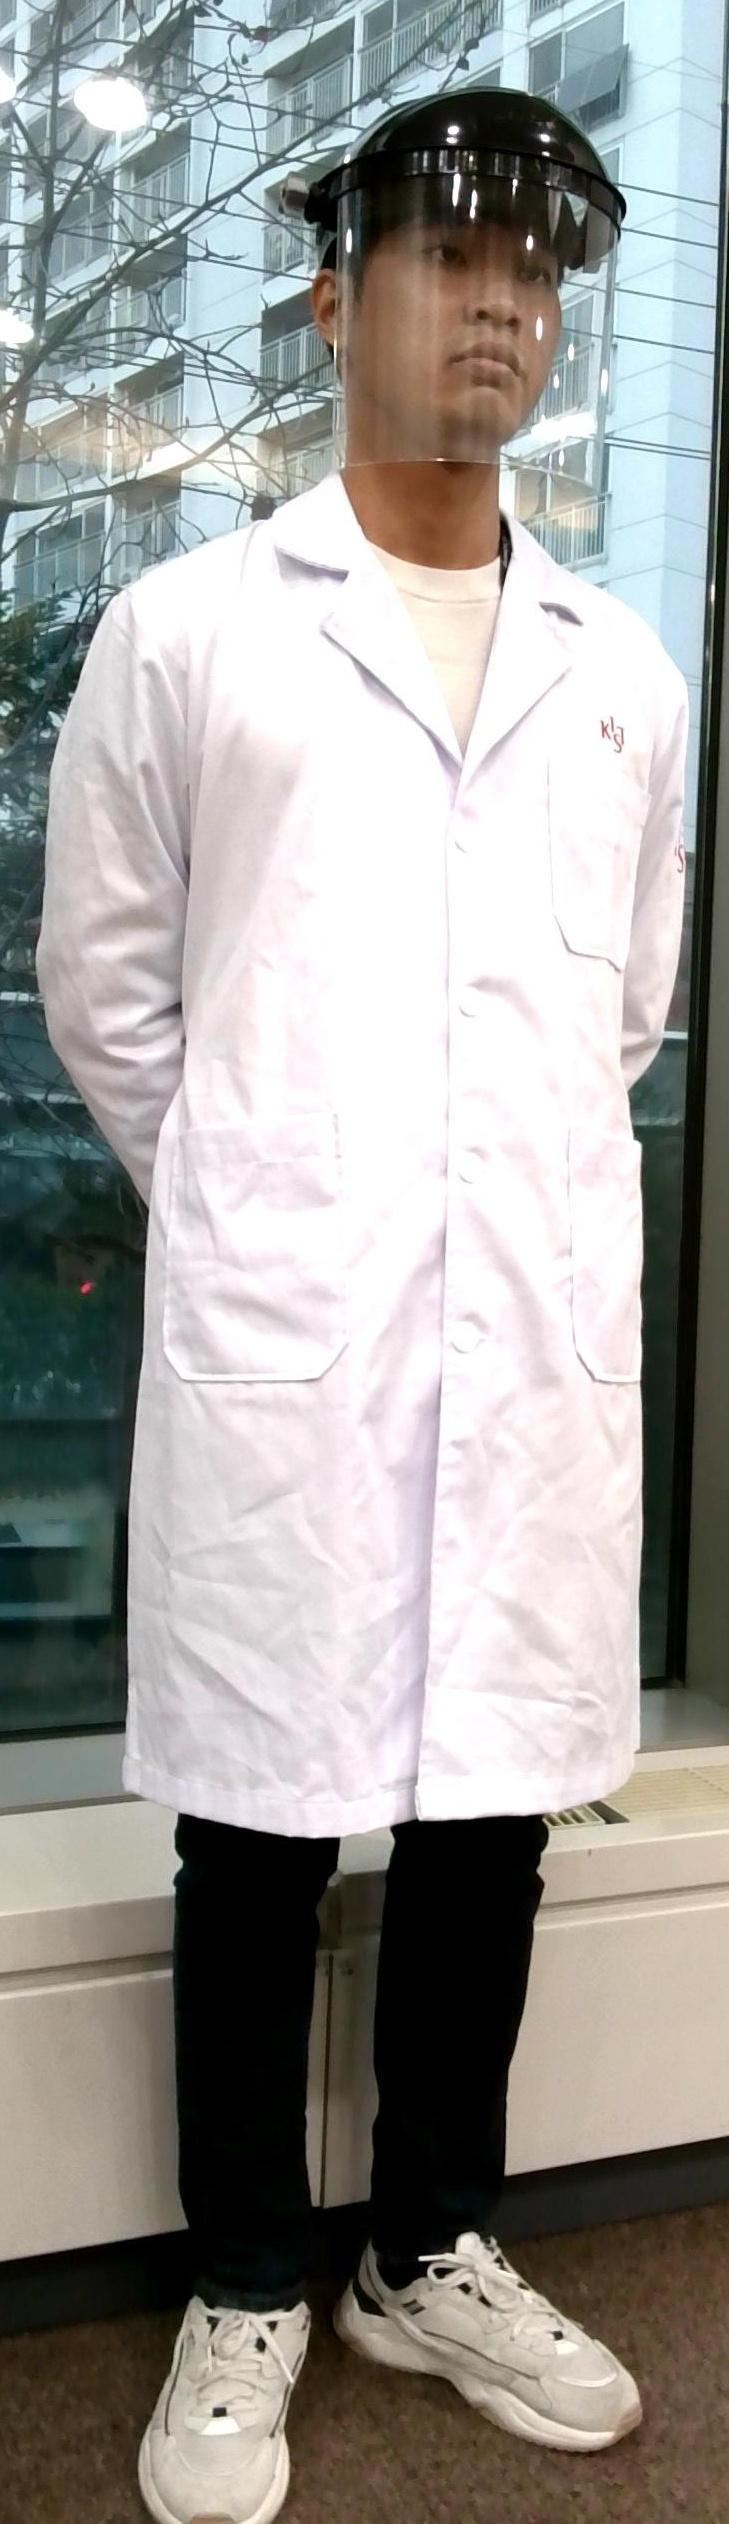lab_coat: (95, 621, 640, 1772)
